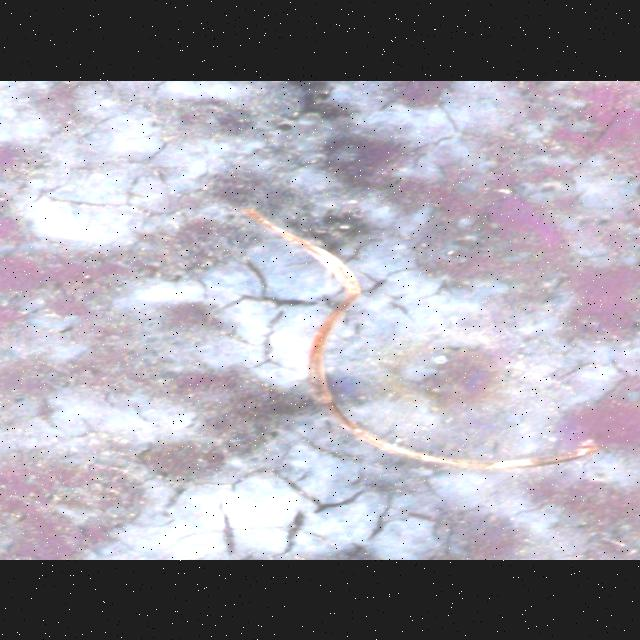Fibre: (236, 208, 602, 470)
